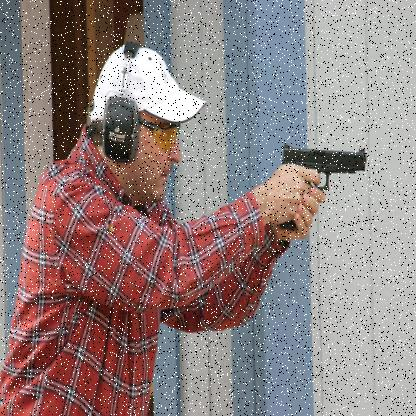pistol: (278, 143, 366, 231)
